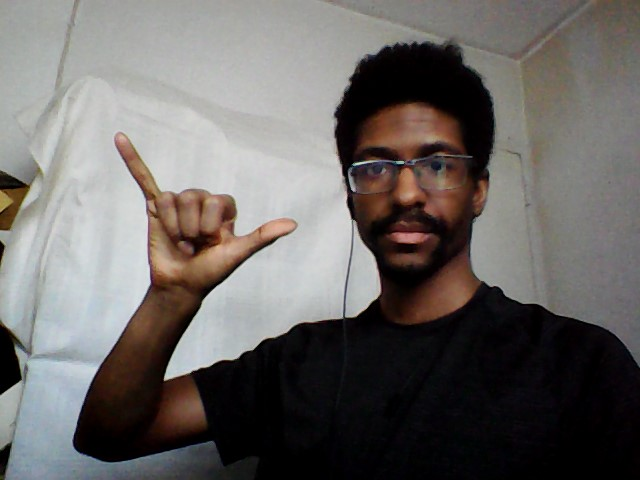y: (112, 127, 303, 292)
